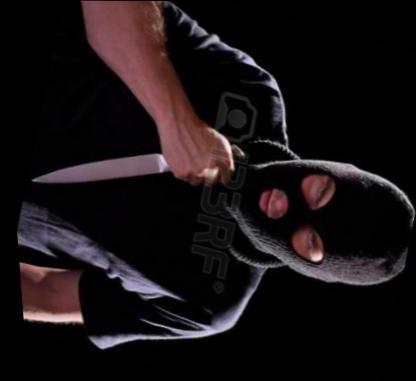knife: (18, 87, 236, 234)
